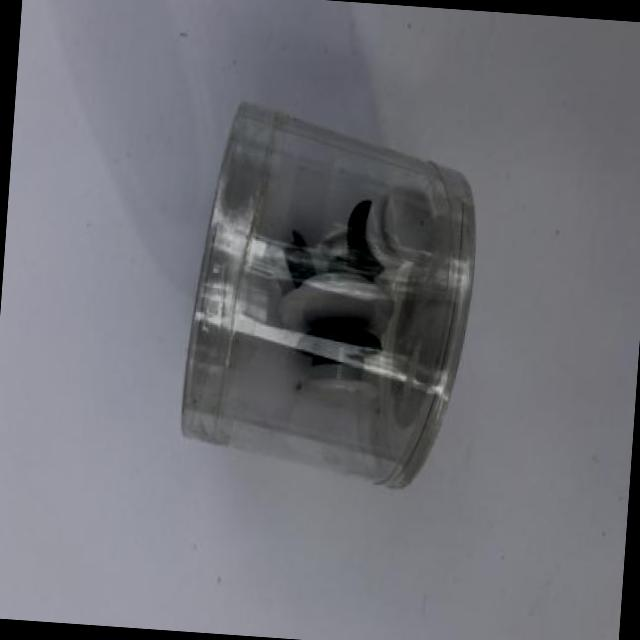Trash: (172, 90, 488, 492)
